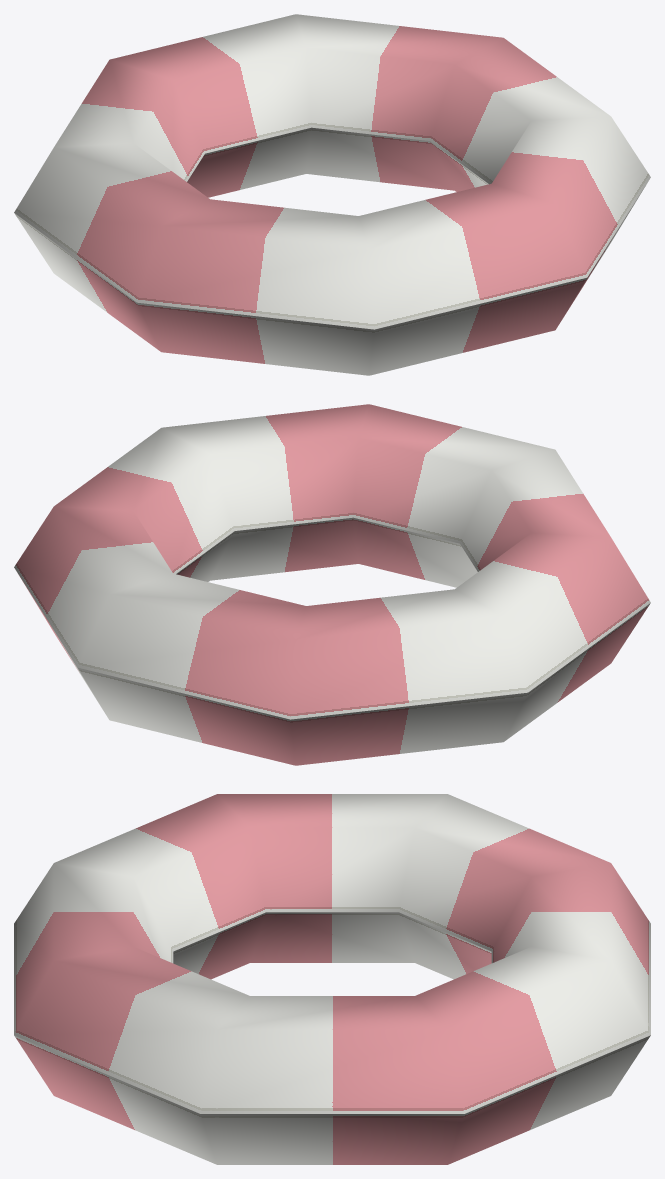
Rendered from 00b1_Pool_Ring.glb.
3 views of the same model, one above another, from view 1: azimuth 30°, elevation 25°; view 2: azimuth 150°, elevation 25°; view 3: azimuth 270°, elevation 25° (orthographic). The views are drawn at different scales.
Parts seen in each view (by area): view 1: part_0; view 2: part_0; view 3: part_0.
Part boxes in pixels (x1=…): part_0: x1=14, y1=14, x2=650, y2=375; part_0: x1=14, y1=404, x2=650, y2=765; part_0: x1=14, y1=794, x2=650, y2=1164.
Size of the model in its own units: 0.6082 by 0.1425 by 0.6082.
Materials: 1 (1 with a texture image).
